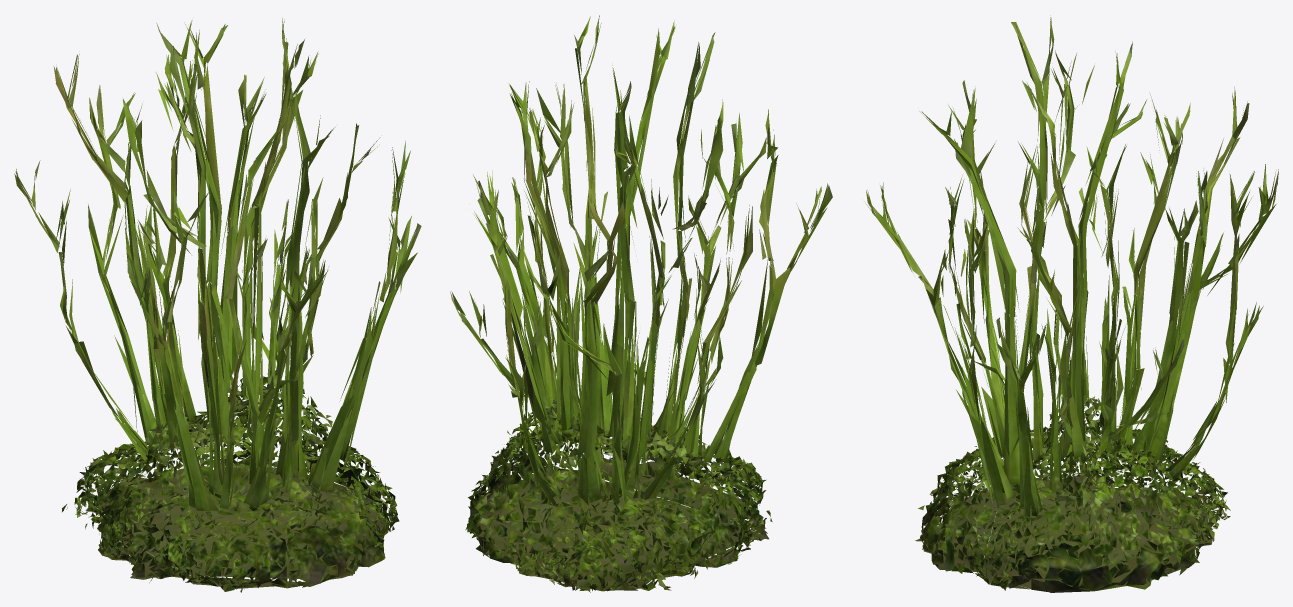
File: psilophyton.glb
The picture shows the model from 3 angles, left to right: view 1: azimuth 30°, elevation 25°; view 2: azimuth 150°, elevation 25°; view 3: azimuth 270°, elevation 25°; orthographic projection. The views are drawn at different scales.
Parts seen in each view (by area): view 1: Mesh_0; view 2: Mesh_0; view 3: Mesh_0.
Boxes of the visible parts, x1,y1,x2,y2 form: Mesh_0: [14, 18, 421, 592]; Mesh_0: [450, 15, 832, 592]; Mesh_0: [864, 15, 1278, 592].
Size of the model in its own units: 0.6671 by 1.01 by 0.7801.
1 material, 1 textured.
